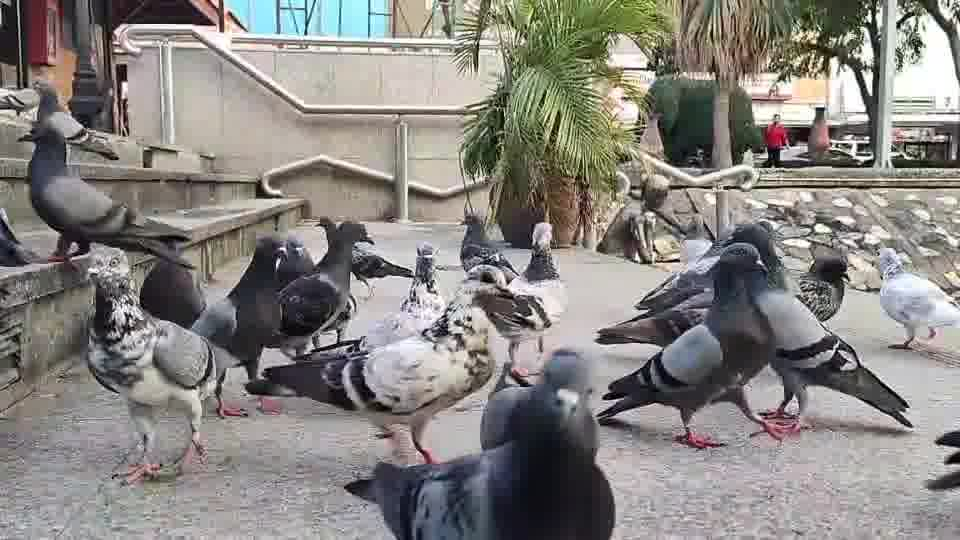Pigeon: (624, 220, 913, 431), (343, 345, 615, 539), (594, 241, 782, 450), (83, 247, 217, 484), (753, 254, 914, 431), (16, 125, 192, 265), (190, 233, 316, 419), (876, 246, 959, 350), (31, 79, 120, 161), (921, 428, 959, 491), (0, 206, 32, 267)
